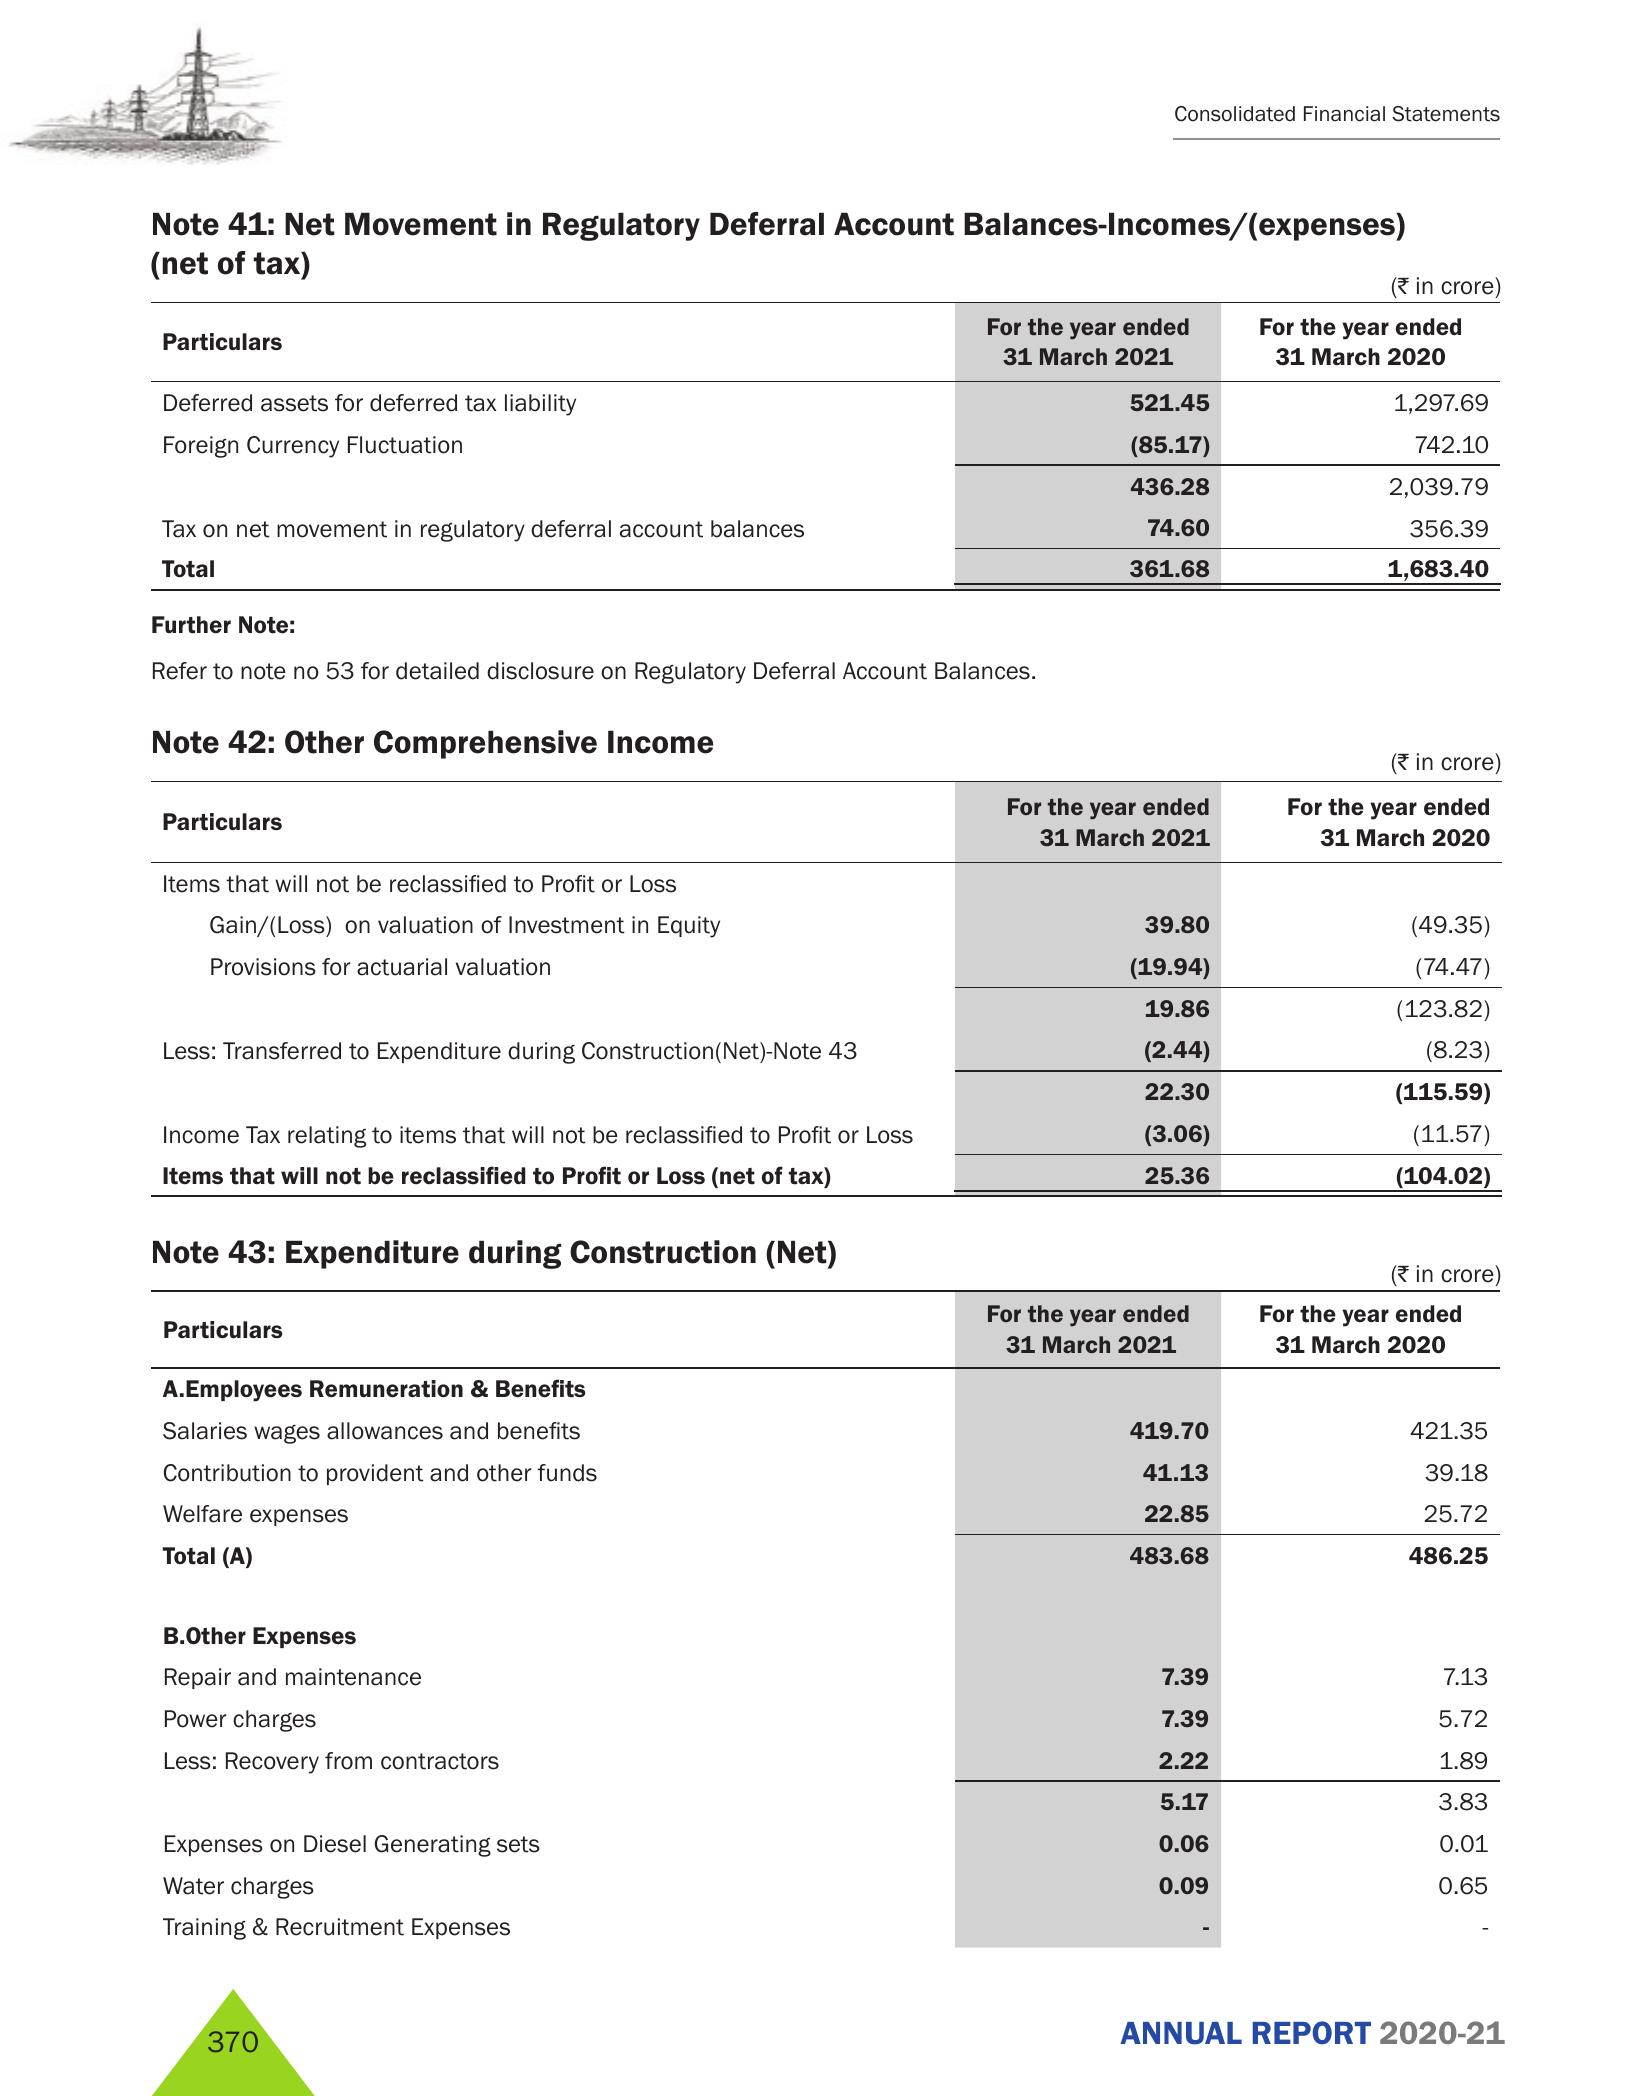Footer: (0, 1968, 1650, 2096)
Header: (0, 0, 1650, 180)
Table: (94, 1291, 1528, 1962), (99, 776, 1528, 1198), (102, 298, 1545, 597)
